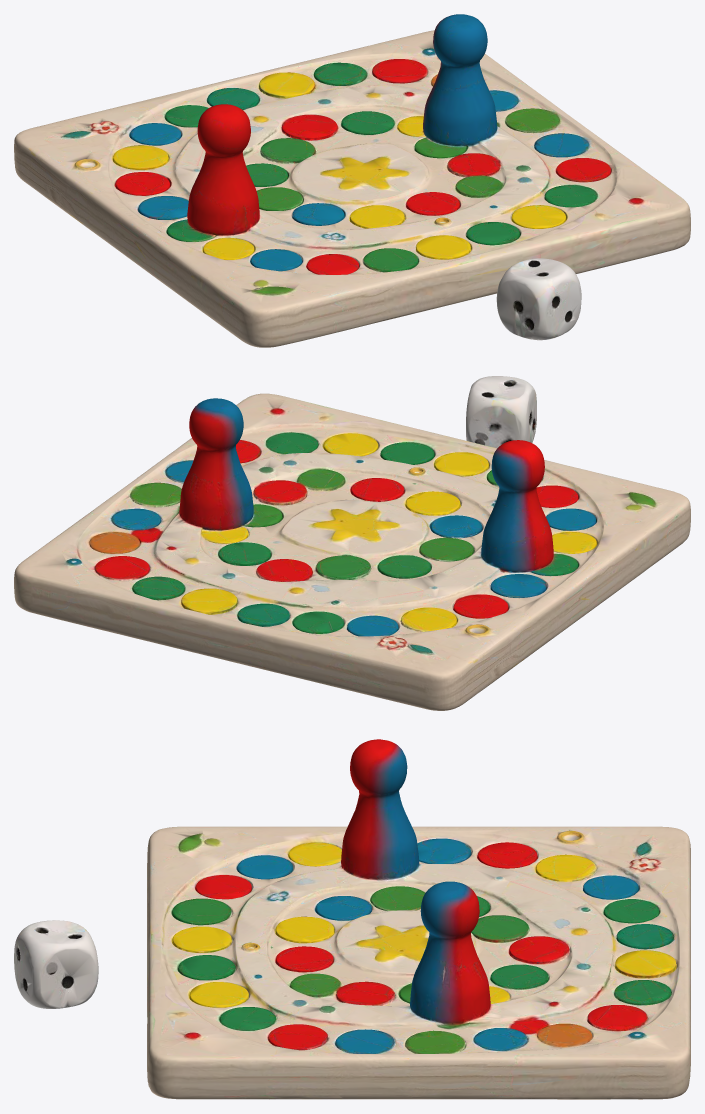
Rendered from boardgame.glb.
The picture shows the model from 3 angles, top to bottom: view 1: azimuth 30°, elevation 25°; view 2: azimuth 150°, elevation 25°; view 3: azimuth 270°, elevation 25°; orthographic projection. The views are drawn at different scales.
Size of the model in its own units: 1.56 by 0.5032 by 1.9.
1 material, 1 textured.
